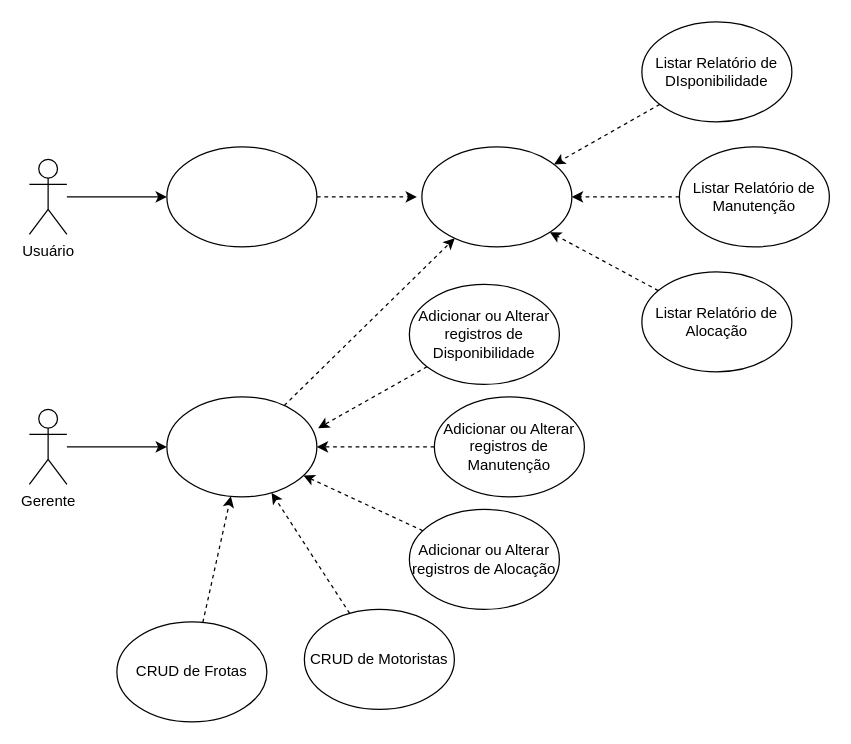
This 851x744 diagram has some shape labels left out. The centre of each missing label's shape, as x and y in pixels:
"Dashboard Administrativa" belongs at (496,196).
"Área Comum" belongs at (241,196).
"Área Gerencial" belongs at (241,446).
